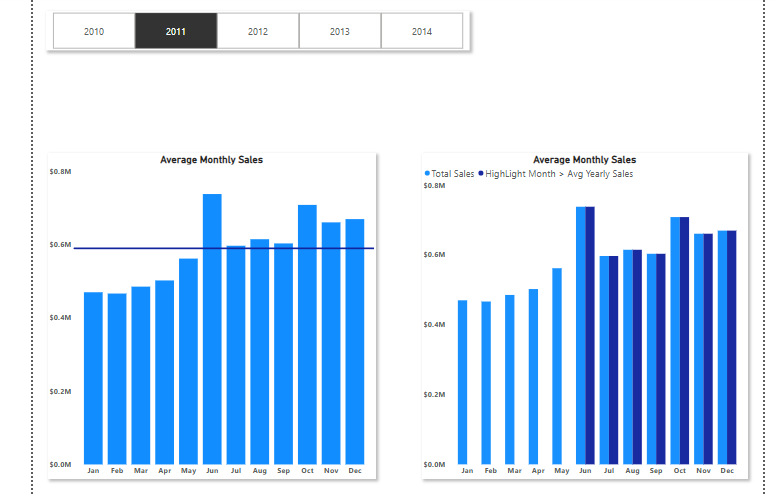

This screenshot's page, from the dashboard's own definition file:
{"tool":"powerbi","page":{"name":"AvgSales","canvas":[2600,1780],"ordinal":4},"visuals":[{"type":"slicer","fields":{"Values":["calendar.Year"]},"box":[45.4,55.8,1507.8,140],"z":0},{"type":"clusteredColumnChart","title":"Average Monthly Sales","fields":{"Category":["calendar.MonthName"],"Y":["DAX Measures.Total Sales"]},"box":[52.4,561.9,1165.7,1158.7],"z":1000},{"type":"clusteredColumnChart","title":"Average Monthly Sales","fields":{"Category":["calendar.MonthName"],"Y":["DAX Measures.Total Sales","DAX Measures.HighLight Month > Avg Yearly Sales"]},"box":[1385.6,561.9,1158.7,1158.7],"z":3000}]}

Visuals, with their boxes on the page's 2600x1780 design canvas (x1, y1, x2, y2). These are canvas units, not pixel positions in the 778x495 screenshot, which may show the page scaled, cropped or inside an application window:
slicer - calendar.Year: x1=45 y1=56 x2=1553 y2=196
"Average Monthly Sales" clusteredColumnChart: x1=52 y1=562 x2=1218 y2=1721
"Average Monthly Sales" clusteredColumnChart: x1=1386 y1=562 x2=2544 y2=1721
